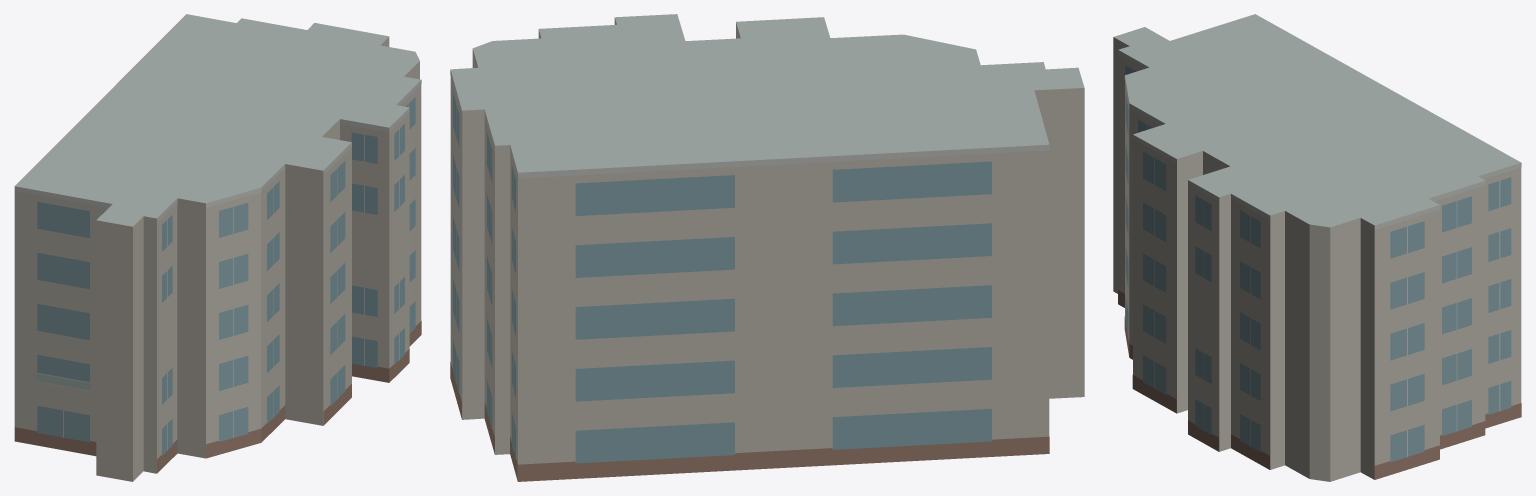
The model's file is survey-upis-32661539.glb.
The picture shows the model from 3 angles, left to right: view 1: azimuth 30°, elevation 25°; view 2: azimuth 150°, elevation 25°; view 3: azimuth 270°, elevation 25°; orthographic projection. The views are drawn at different scales.
Parts seen in each view (by area): view 1: survey-upis-32661539.tmp; view 2: survey-upis-32661539.tmp; view 3: survey-upis-32661539.tmp.
Part boxes in pixels (box(x1,y1,x2,y2)): survey-upis-32661539.tmp: box(14, 14, 421, 481); survey-upis-32661539.tmp: box(450, 14, 1084, 481); survey-upis-32661539.tmp: box(1113, 14, 1521, 481).
Size of the model in its own units: 24.19 by 13.45 by 19.55.
